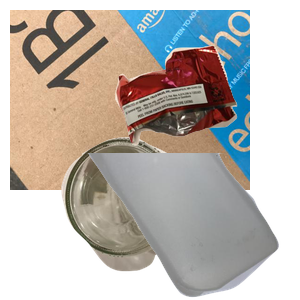cardboard: (10, 10, 250, 190)
glass: (59, 135, 254, 300)
plastic: (84, 153, 300, 300)
trash: (113, 43, 300, 181)
